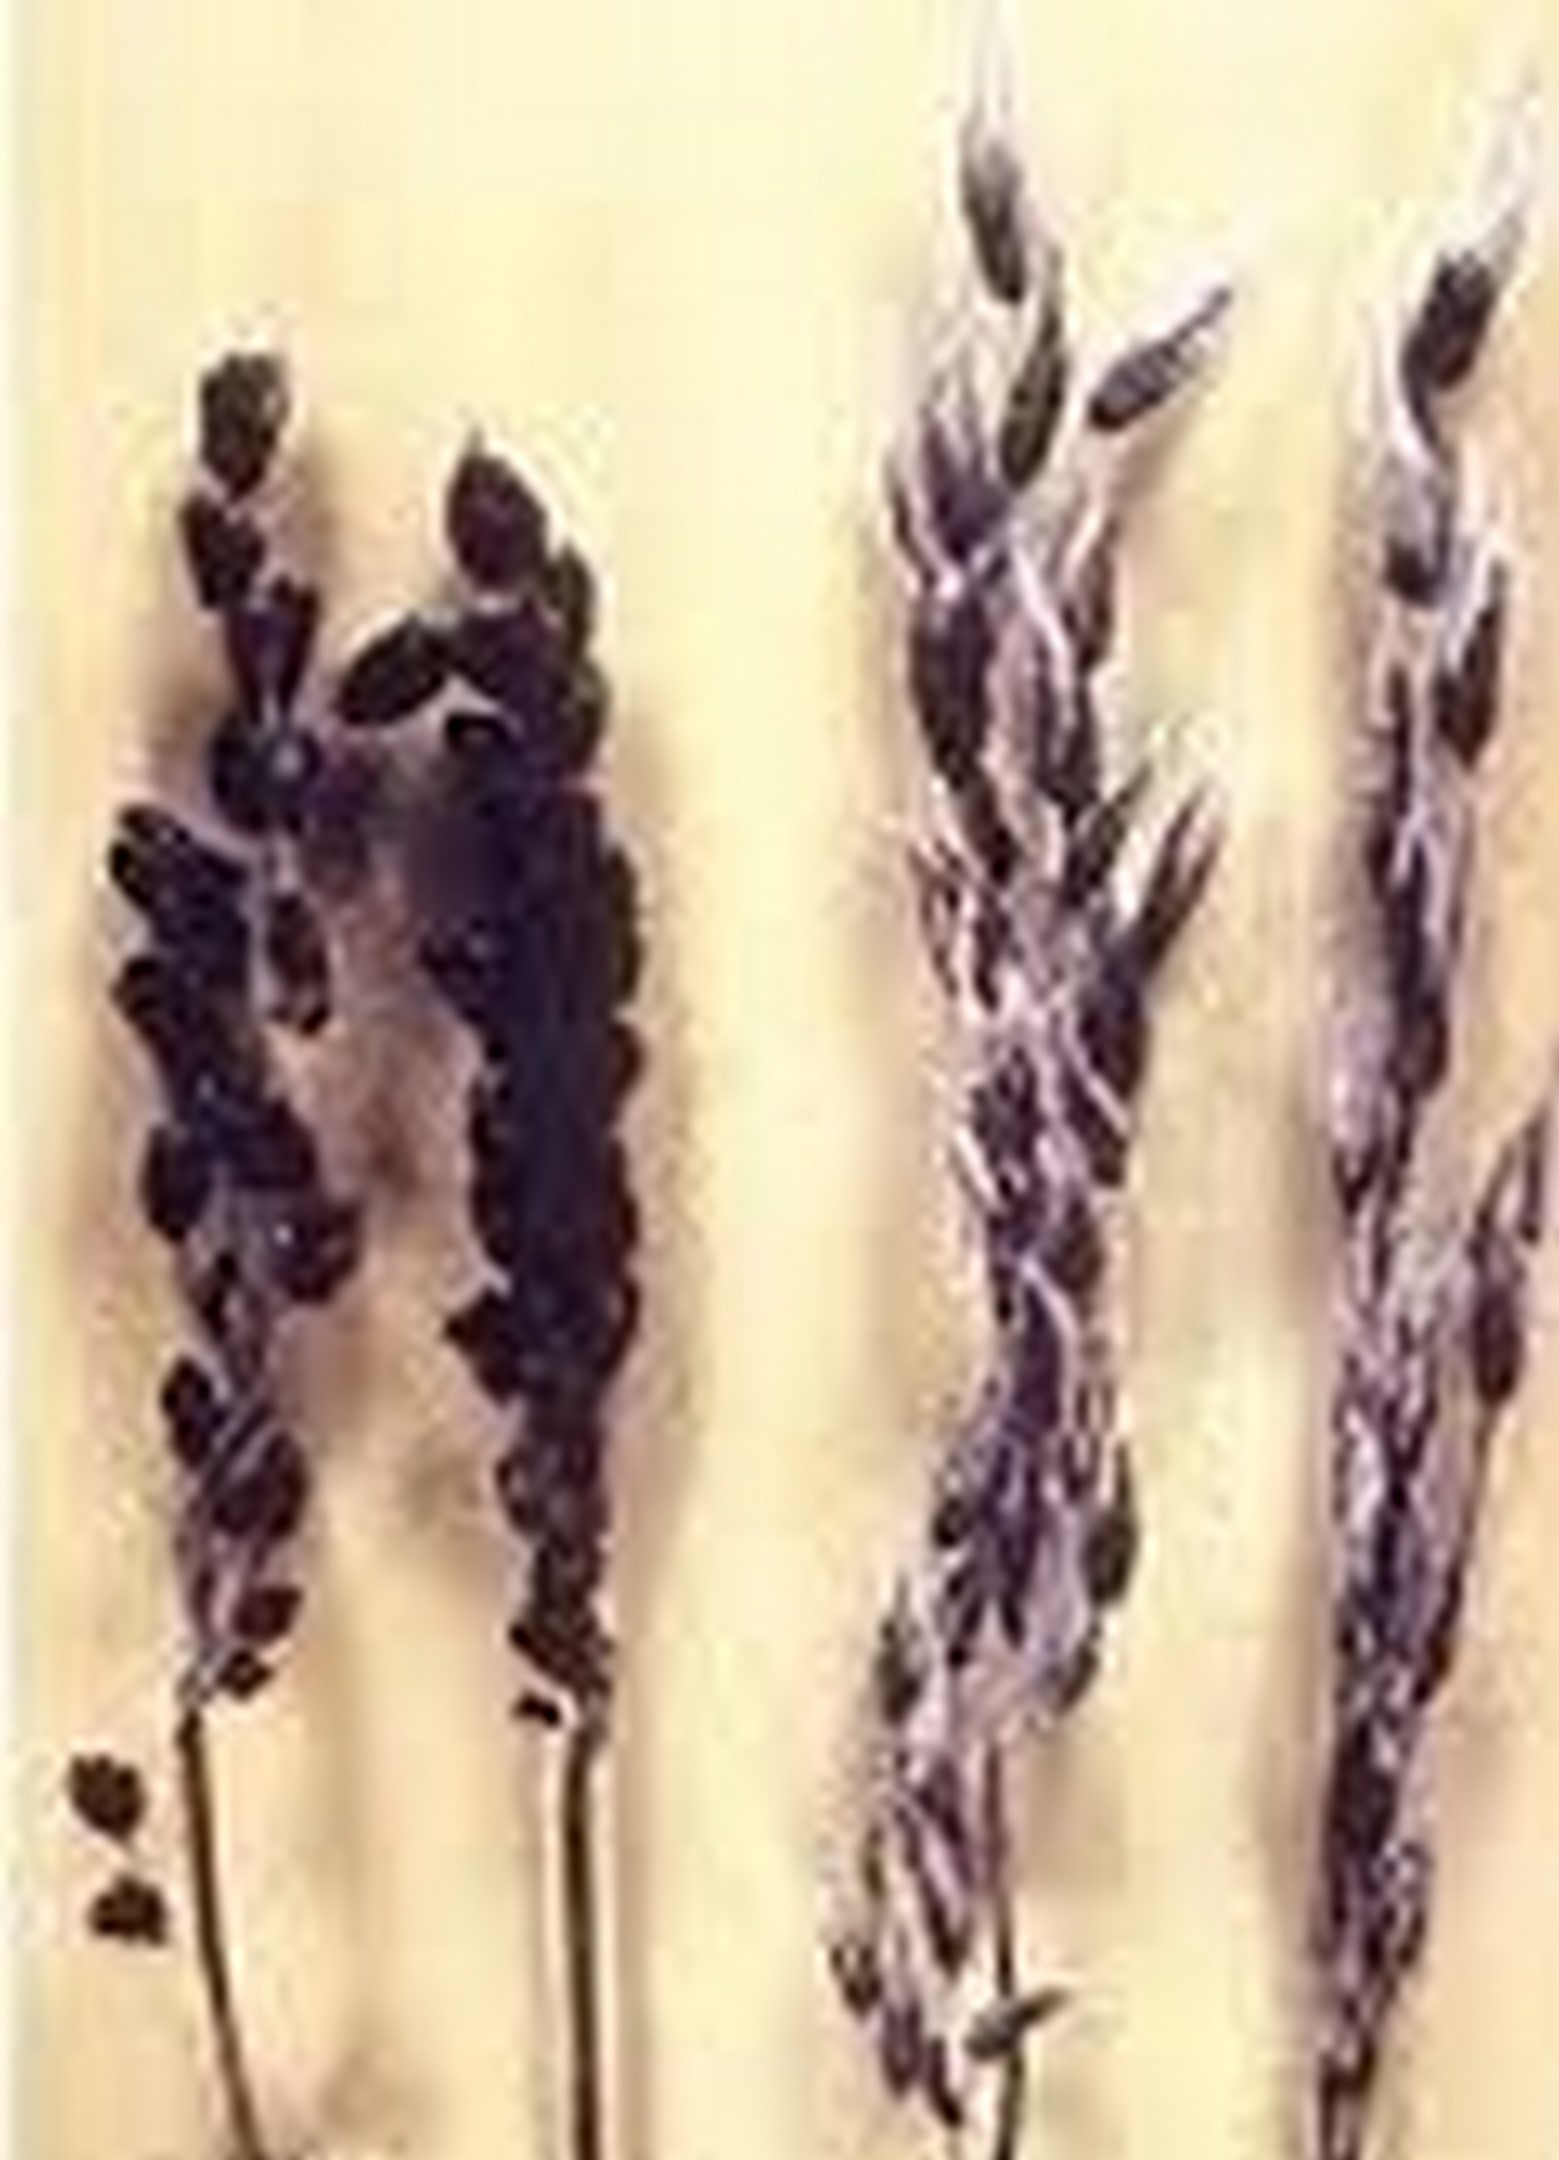Wheat Loose Smut: (62, 376, 1520, 2017)
